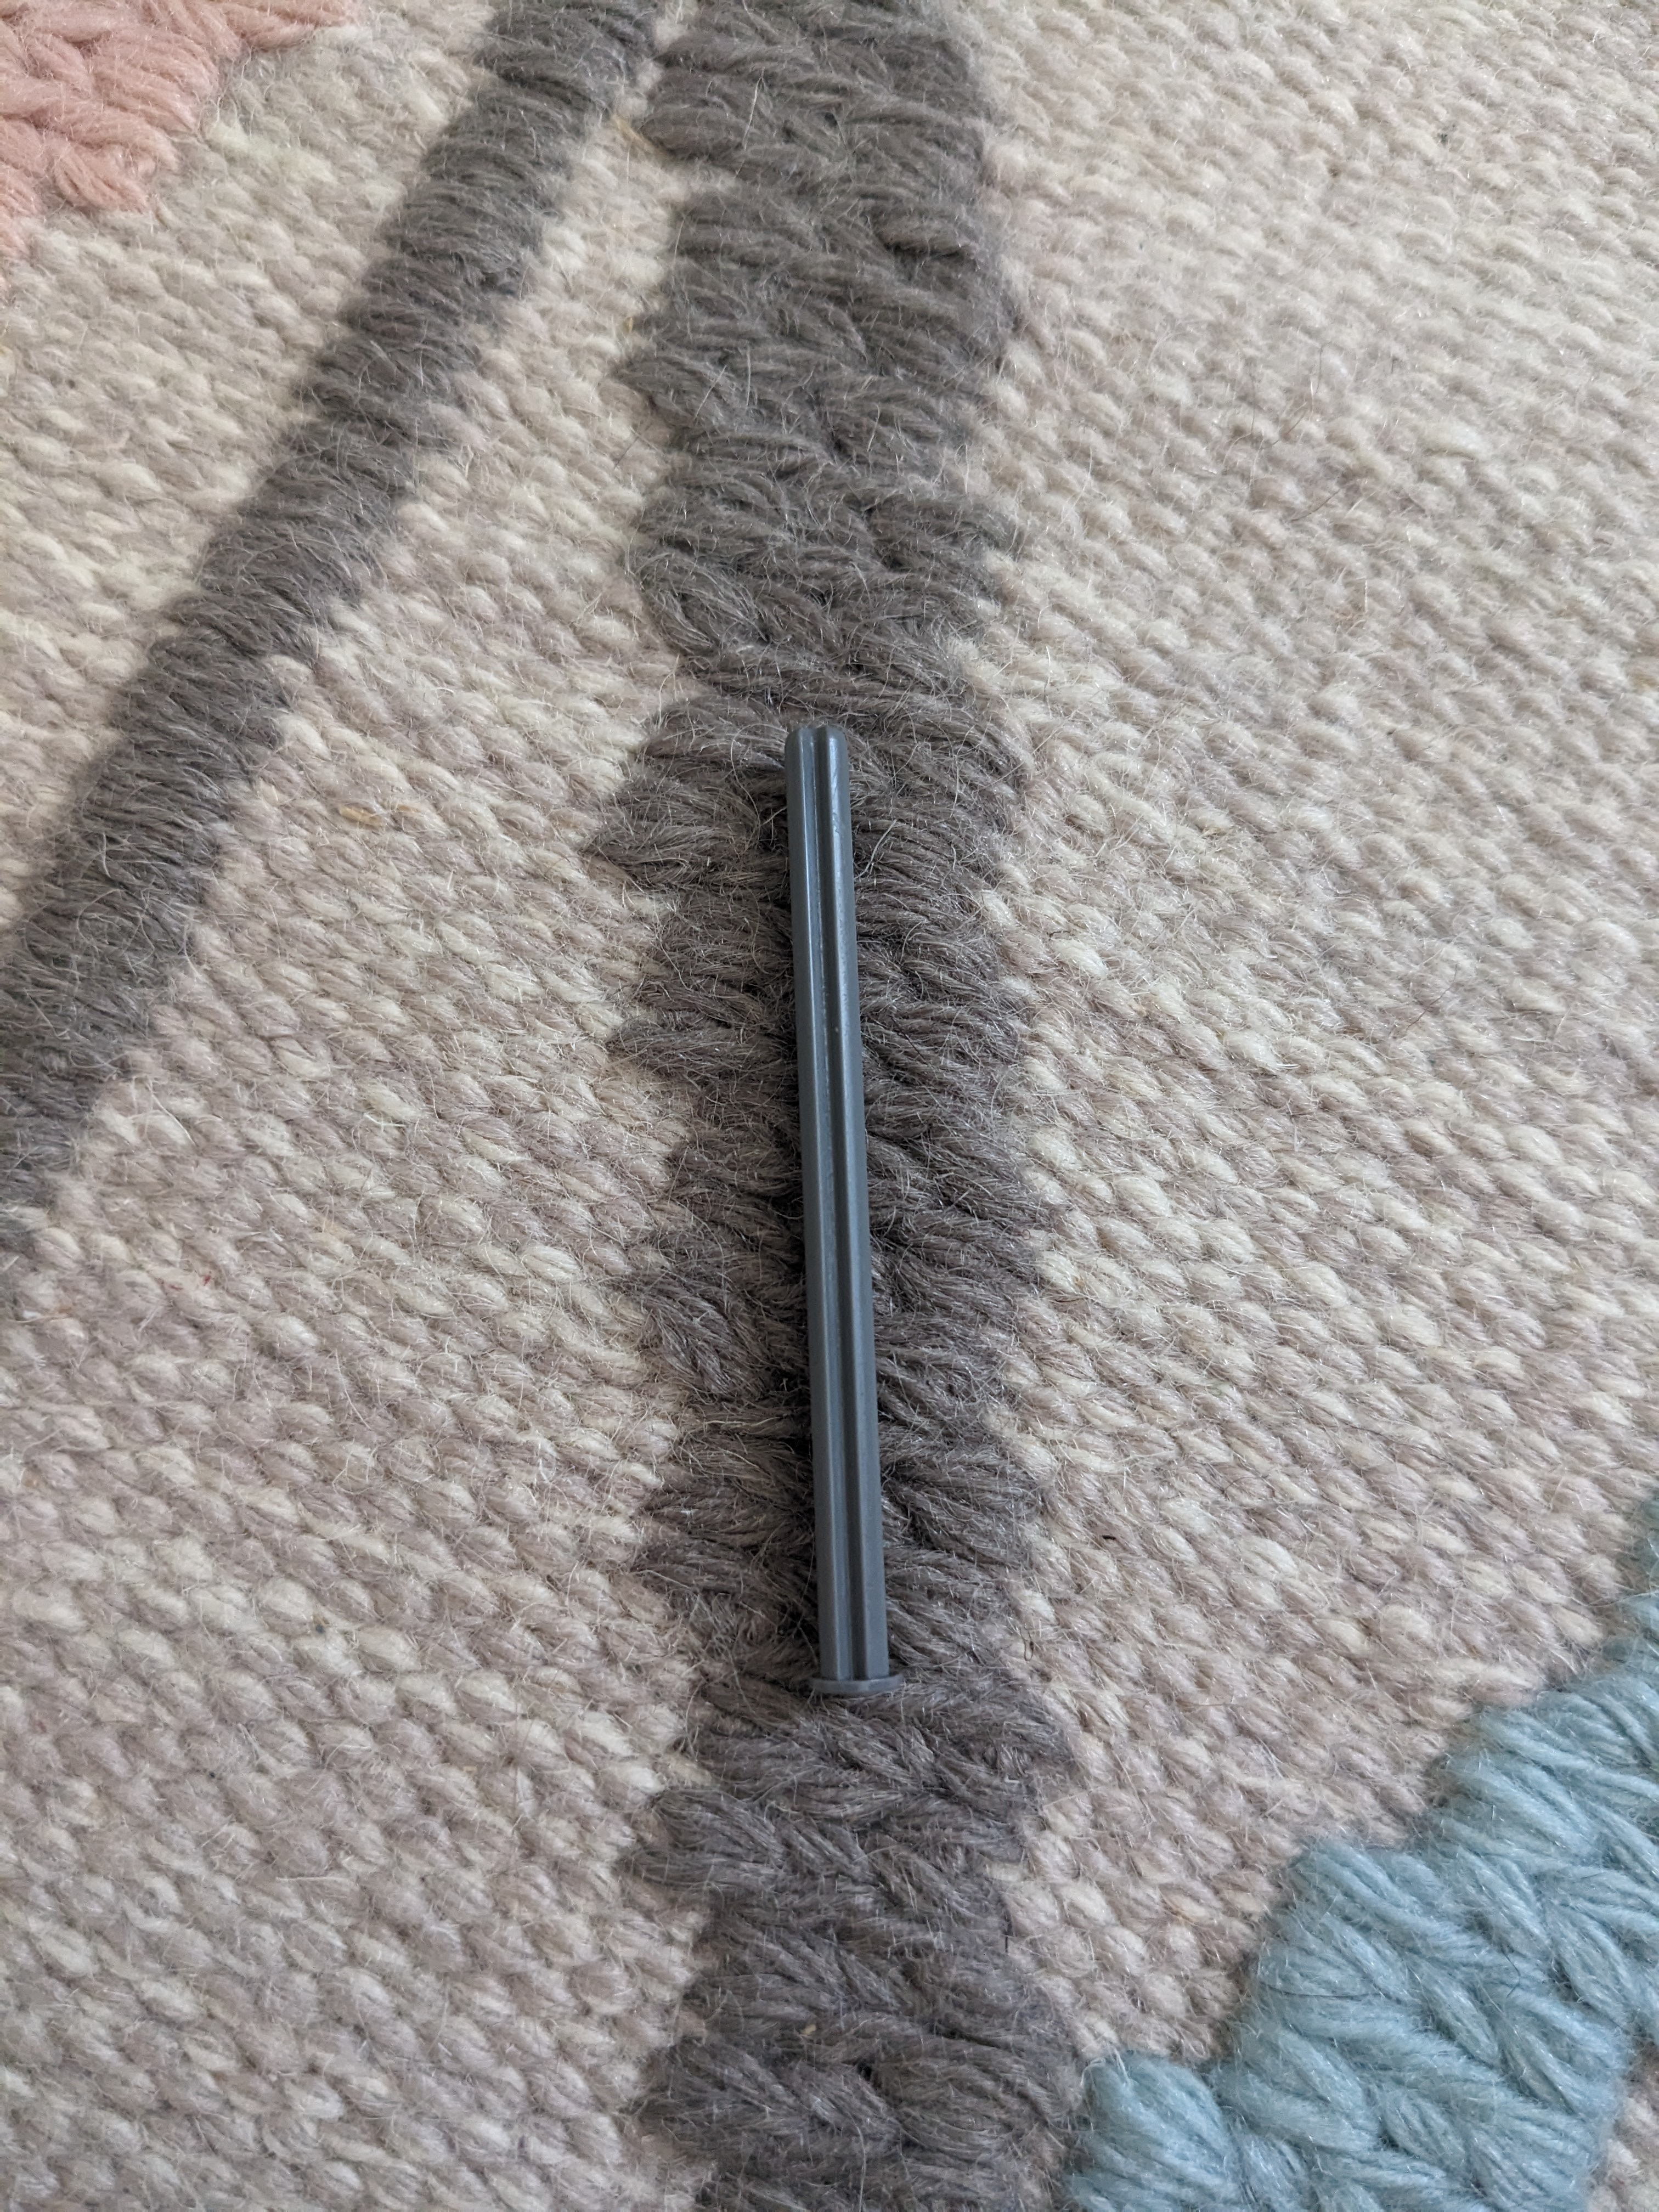Grau_lang: (765, 671, 922, 1710)
